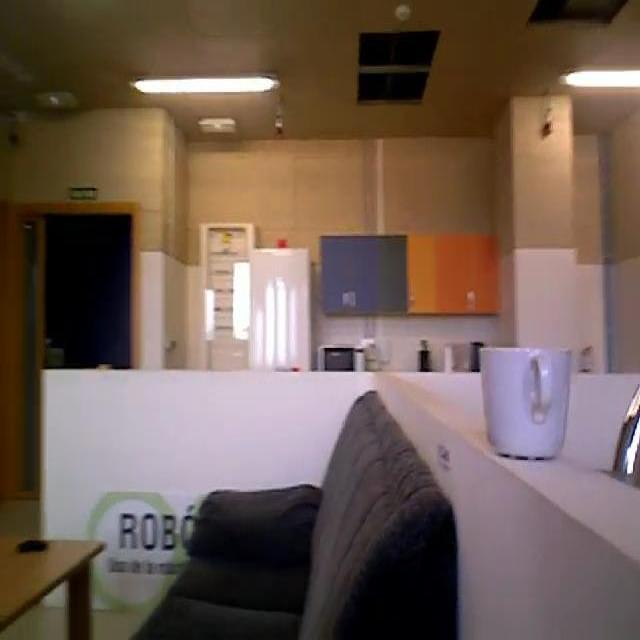cup: (477, 344, 578, 465)
